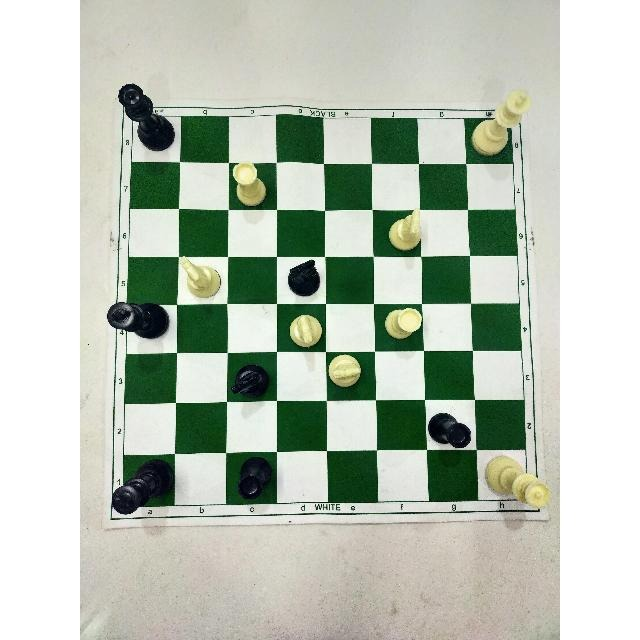black-king: (108, 456, 175, 515), (105, 299, 171, 340)
black-knight: (230, 362, 270, 399), (286, 259, 322, 298)
black-queen: (115, 81, 176, 153)
black-rook: (426, 410, 473, 450), (235, 455, 273, 502)
white-king: (469, 86, 535, 159)
white-knight: (177, 254, 223, 300), (386, 206, 423, 253), (288, 313, 324, 349), (327, 352, 363, 388)
white-queen: (482, 453, 554, 511)
white-rook: (232, 159, 268, 208), (383, 306, 424, 342)
